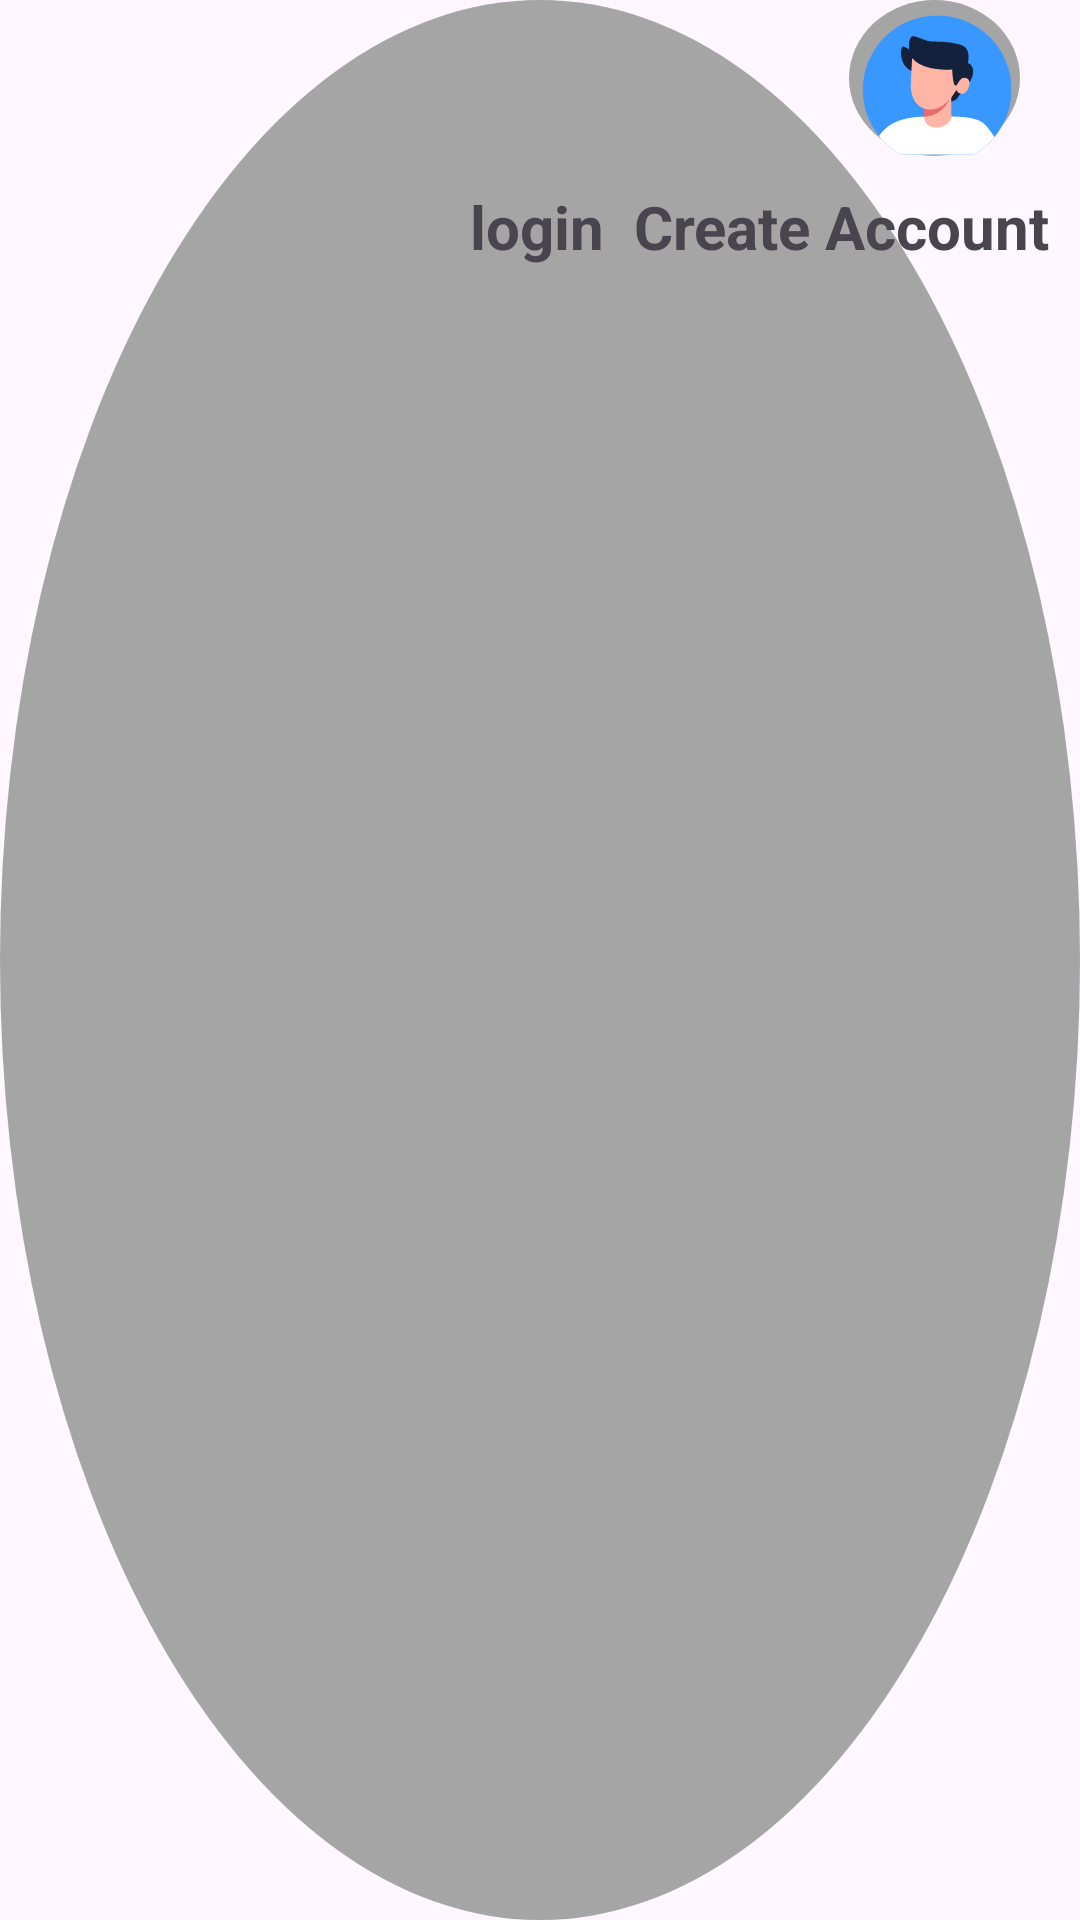

Icons on this 1080w x 1920h Android screen, each with its box as bbox=[x1, y1, x2, y2]:
user profile: bbox=[849, 0, 1020, 156]
